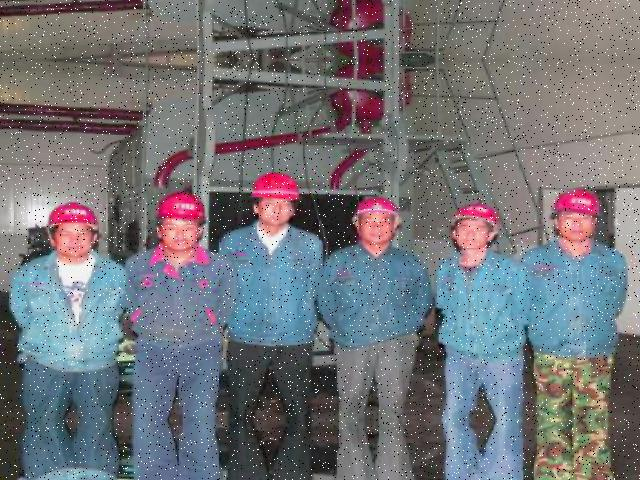Helmet: (449, 198, 510, 240), (44, 199, 108, 237), (348, 193, 410, 231), (250, 167, 308, 206), (551, 182, 609, 219), (157, 188, 211, 227)
